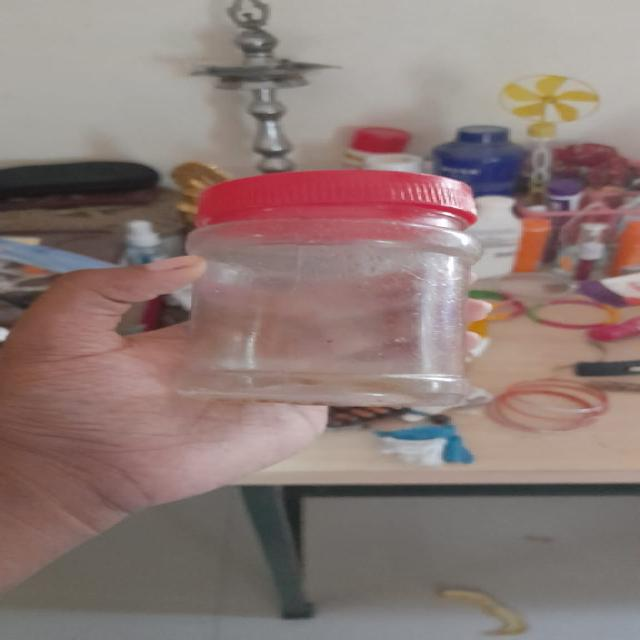Plastic - Recyclable: (170, 168, 489, 408)
